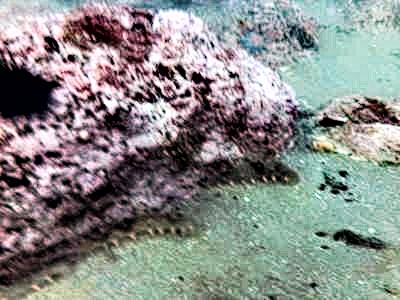urchin: (4, 54, 50, 122)
